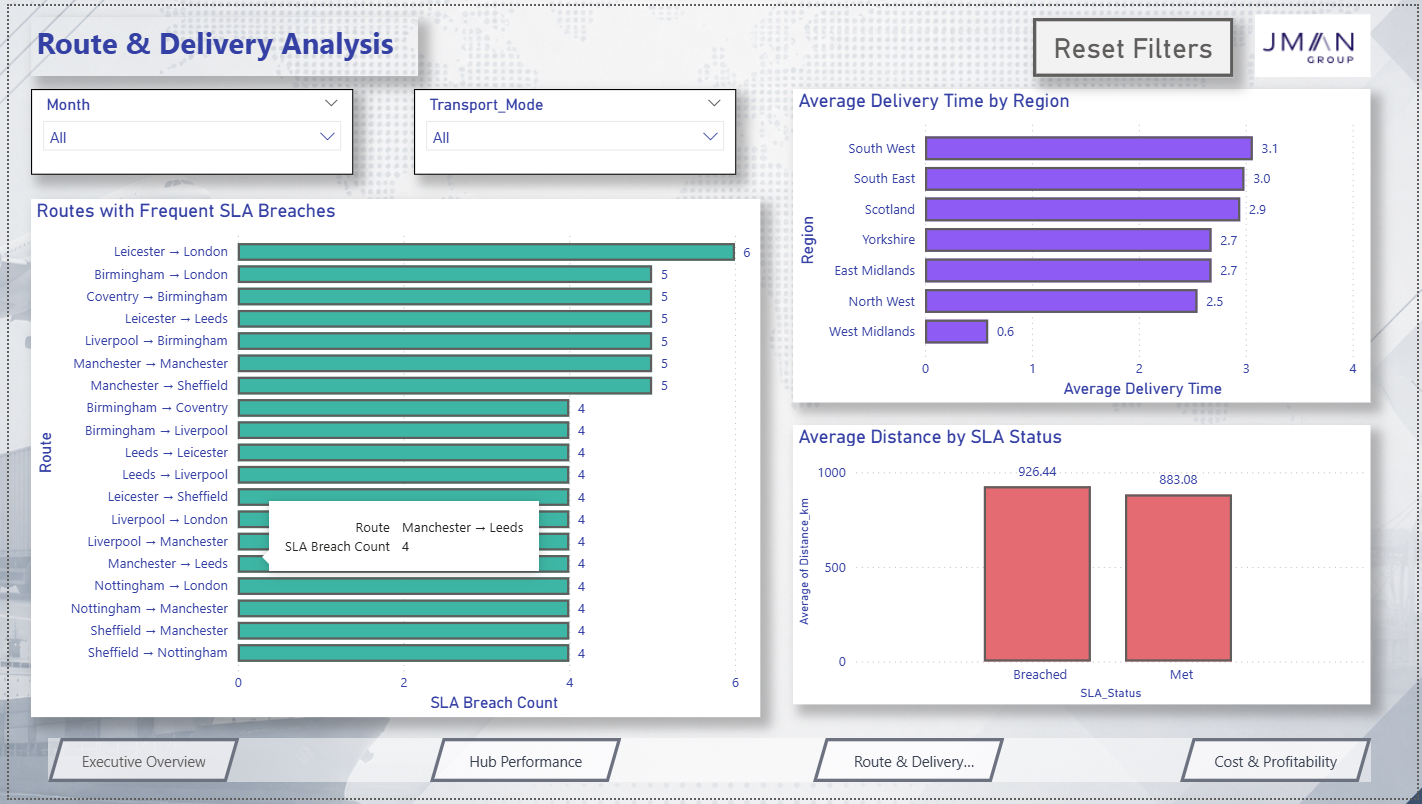

The page's visual inventory and layout, read from the dashboard file:
{"tool":"powerbi","page":{"name":"Route & Delivery Analysis","canvas":[1280,720],"ordinal":2},"visuals":[{"type":"clusteredBarChart","title":"Average Delivery Time by Region","fields":{"Category":["Dim_hub.Region"],"Y":["Fact_Shipments.Average Delivery Time"]},"box":[713,75,525,285],"z":0},{"type":"clusteredBarChart","title":"Routes with Frequent SLA Breaches","fields":{"Category":["Fact_Shipments.Route"],"Y":["Fact_Shipments.SLA Breach Count"]},"box":[20,175,663,471],"z":1000},{"type":"clusteredColumnChart","title":"Average Distance by SLA Status","fields":{"Category":["Fact_Shipments.SLA_Status"],"Y":["Avg(Fact_Shipments.Distance_km)"]},"box":[713,381,525,254],"z":2000},{"type":"group","id":"g1","title":"Group 1","box":[35,665,1203,40],"z":3000},{"type":"actionButton","box":[930.7,11.3,182.2,53.5],"z":4000},{"type":"textbox","box":[20,10,352,54],"z":5000},{"type":"actionButton","box":[35,665,174,40],"z":5000,"group":"g1"},{"type":"slicer","fields":{"Values":["Calendar.Month"]},"box":[20,75,293,78],"z":6000},{"type":"actionButton","box":[382,665,174,40],"z":6000,"group":"g1"},{"type":"slicer","fields":{"Values":["Fact_Shipments.Transport_Mode"]},"box":[368,75,293,78],"z":7000},{"type":"actionButton","box":[730,665,174,40],"z":7000,"group":"g1"},{"type":"image","box":[1132.6,4.7,105.2,62.9],"z":7001},{"type":"actionButton","box":[1064,665,174,40],"z":8000,"group":"g1"}]}

Visuals, with their boxes in screenshot pixels (x1, y1, x2, y2), scaled from the page's 1280x720 canvas onto the 1422x804 screenshot:
"Average Delivery Time by Region" clusteredBarChart: [792, 84, 1375, 402]
"Routes with Frequent SLA Breaches" clusteredBarChart: [22, 195, 759, 721]
"Average Distance by SLA Status" clusteredColumnChart: [792, 425, 1375, 709]
"Group 1" group: [39, 743, 1375, 787]
actionButton: [1034, 13, 1236, 72]
textbox: [22, 11, 413, 71]
actionButton: [39, 743, 232, 787]
slicer - Calendar.Month: [22, 84, 348, 171]
actionButton: [424, 743, 618, 787]
slicer - Fact_Shipments.Transport_Mode: [409, 84, 734, 171]
actionButton: [811, 743, 1004, 787]
image: [1258, 5, 1375, 75]
actionButton: [1182, 743, 1375, 787]
